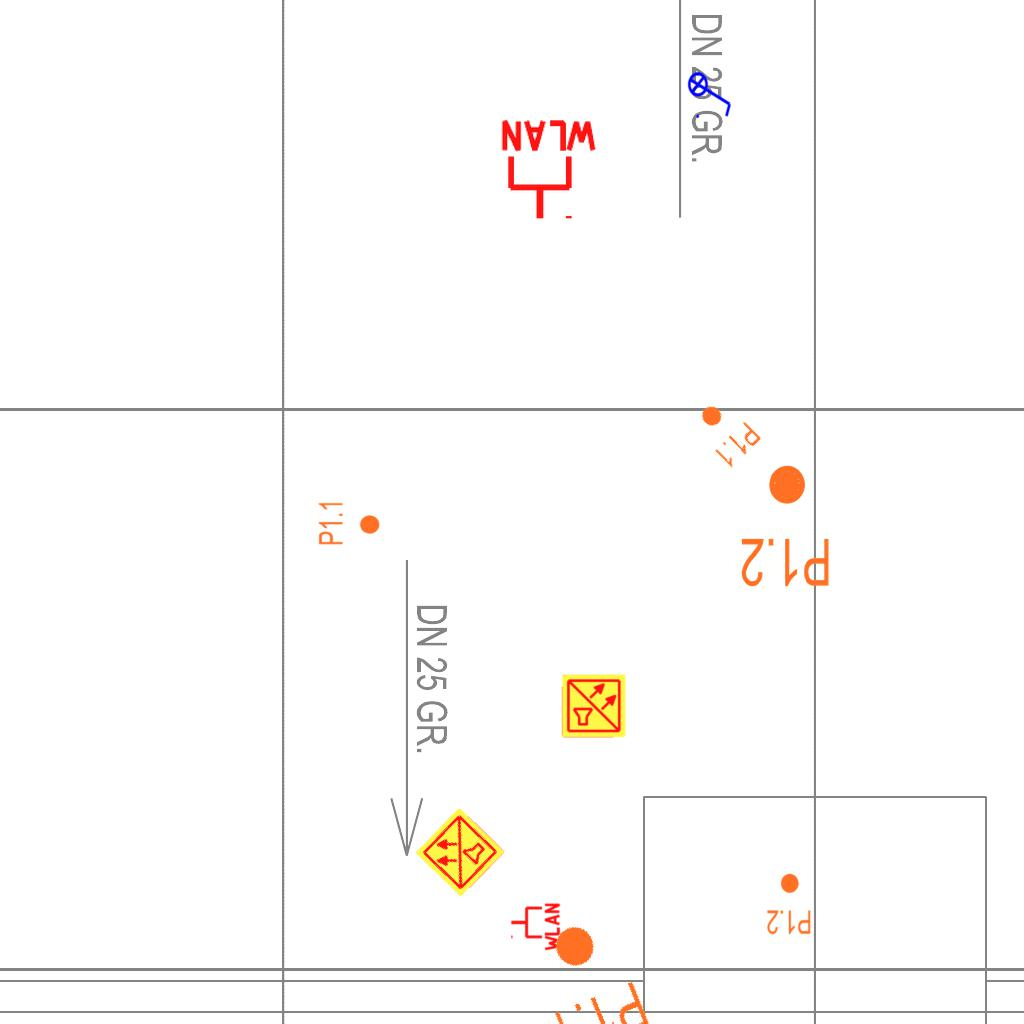Ausschalter_beleuchtet: (687, 65, 735, 121)
Downlight_LED_Einbauleuchten_Flur: (520, 909, 655, 1024), (739, 462, 832, 590), (686, 393, 764, 471), (766, 872, 812, 936), (317, 500, 381, 546)
OKW_Multisensormelder_(Kombination_optischer_Rauch-Kahlenmonoxid_Waerme-Melder): (413, 805, 507, 899), (561, 673, 627, 739)
WLAN: (497, 118, 601, 223), (509, 901, 561, 953)
